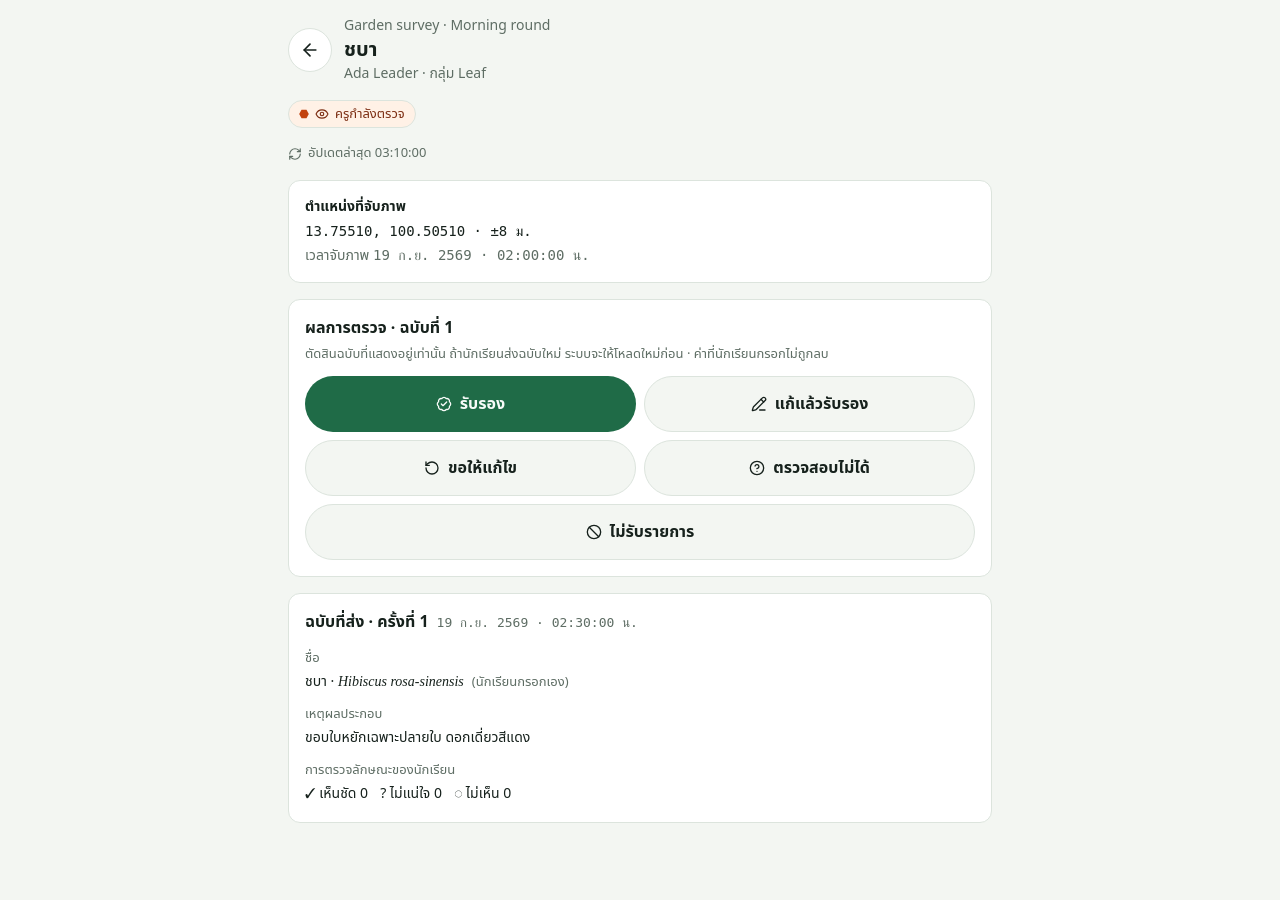
Test: teacher decisions › needs a reason to reject
Click the button "ไม่รับรายการ": {"x": 640, "y": 532} [305,504,975,560]
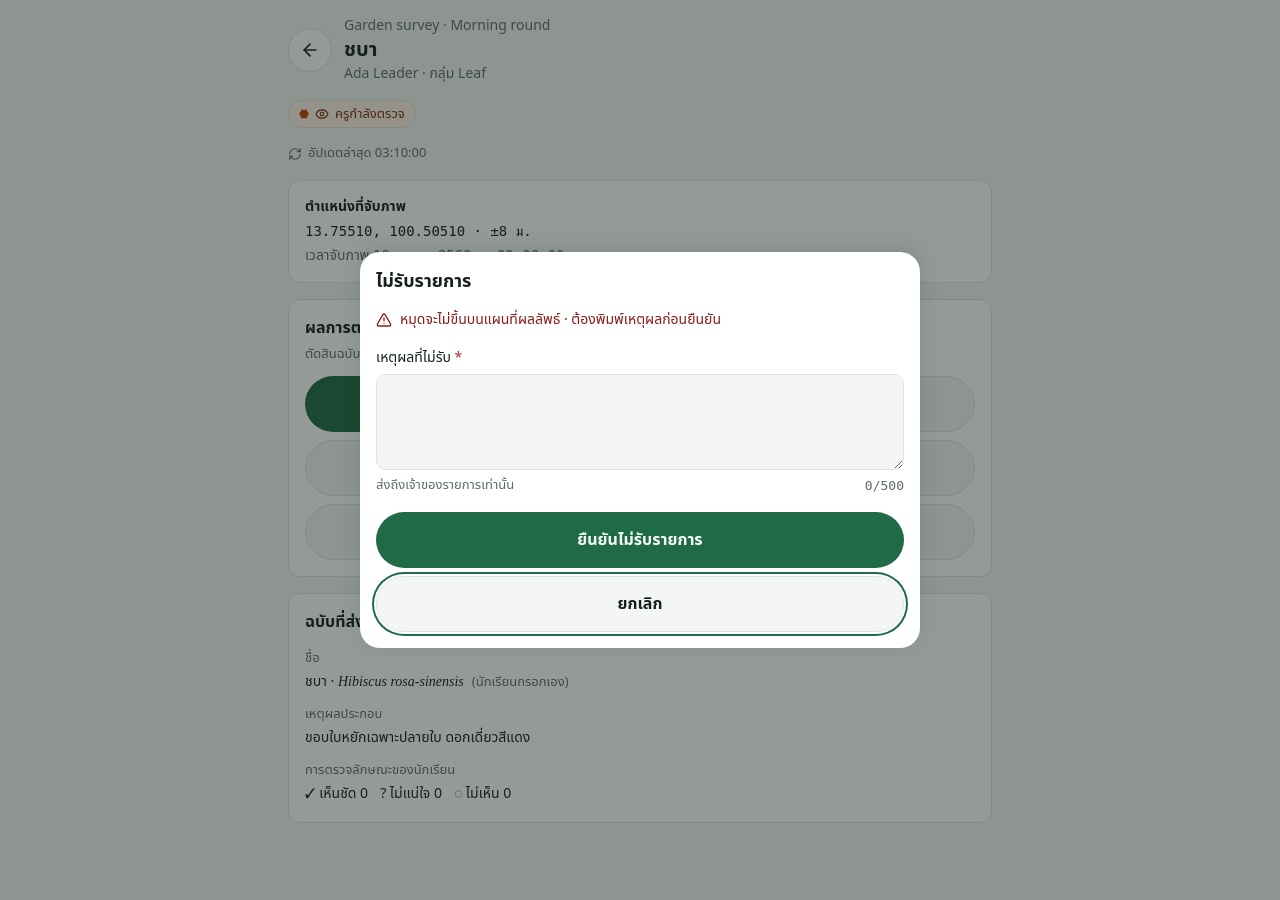
Click the button "ยืนยันไม่รับรายการ": {"x": 640, "y": 540} [376,512,904,568]
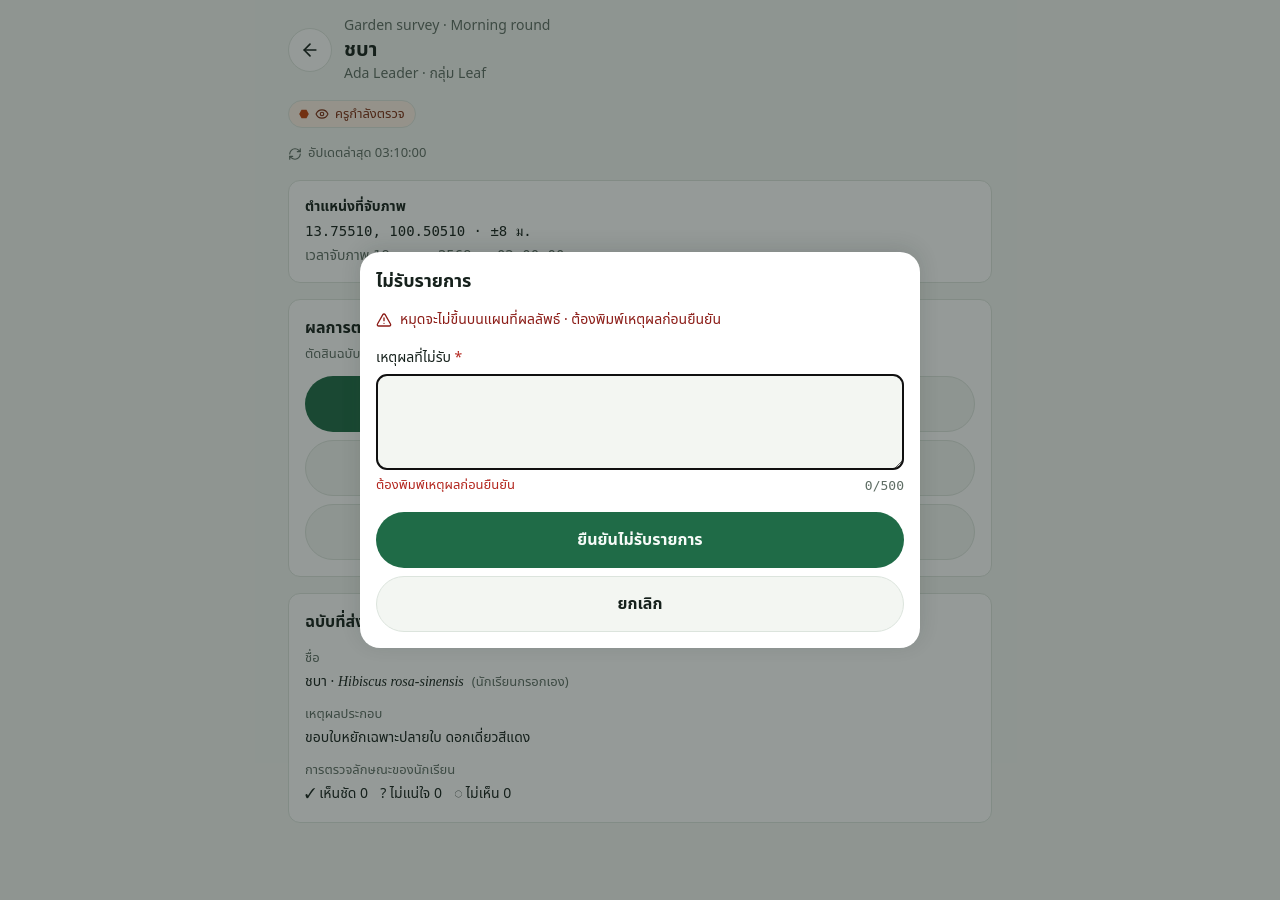
Check: the text "ต้องพิมพ์เหตุผลก่อนยืนยัน" is shown, box [376,476,515,496]
